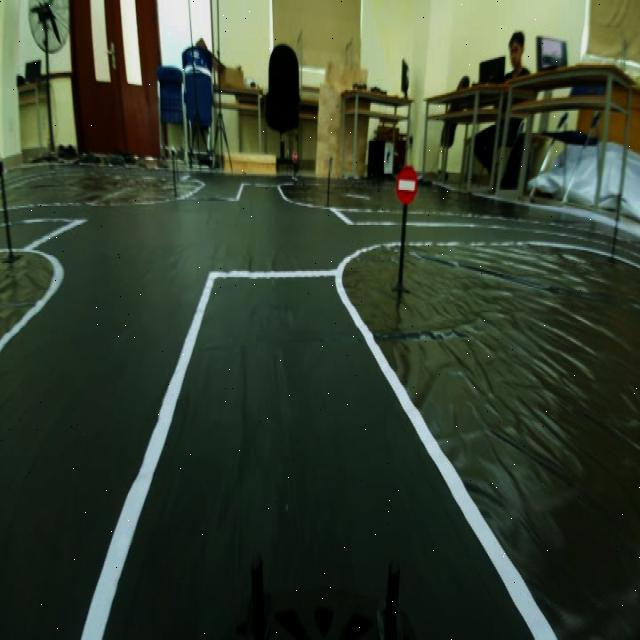no_entry: (394, 160, 420, 209)
